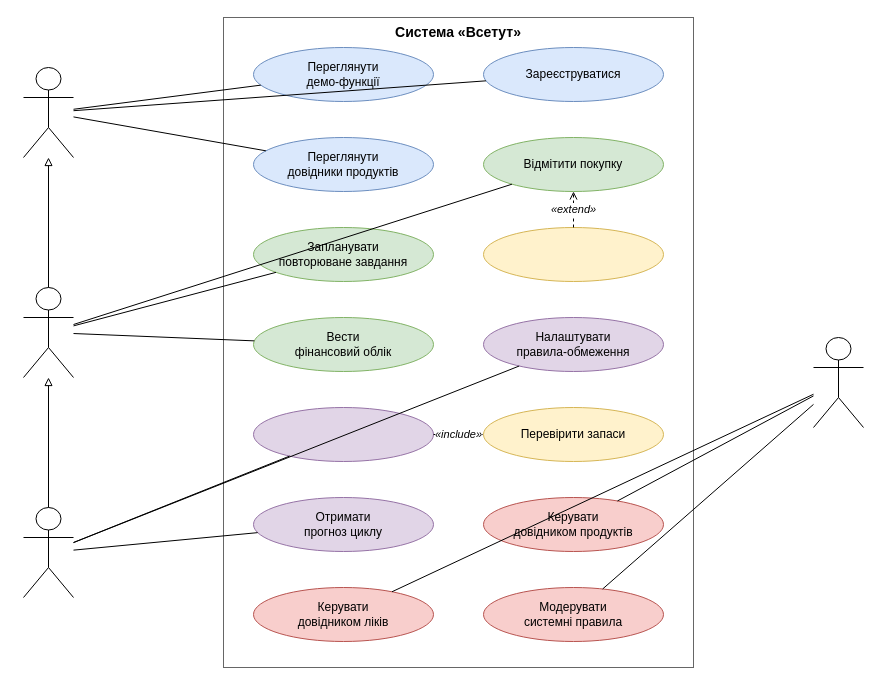
This 895x685 diagram has some shape labels left out. The centre of each missing label's shape, as x and y in pixels:
"Адміністратор довідників" belongs at (838,382).
"Базовий користувач" belongs at (48,332).
"Гість" belongs at (48,112).
"Преміум користувач" belongs at (48,552).
"Списати кошти" belongs at (573,254).
"Сформувати меню на тиждень" belongs at (343,434).
